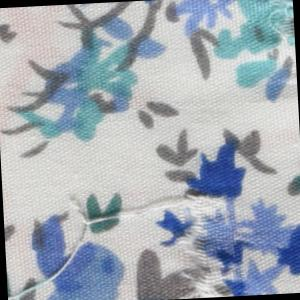Damage: (171, 180, 257, 300), (234, 1, 298, 102)
